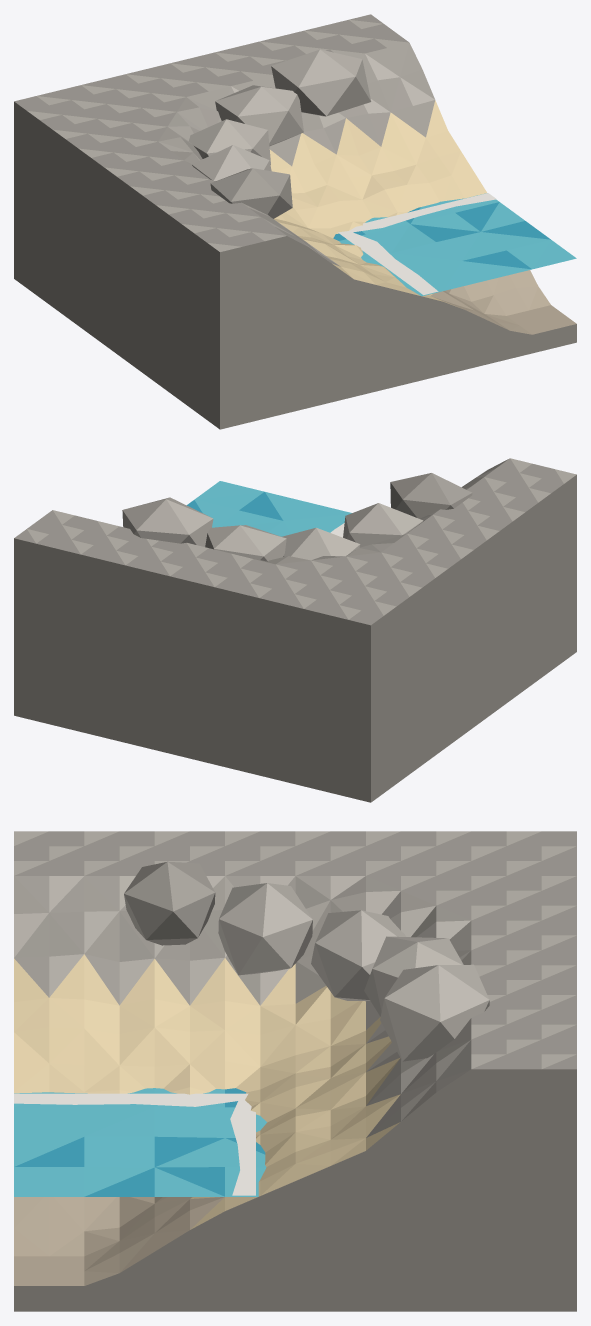
The model's file is shore_inner_corner.glb.
3 views of the same model, one above another, from view 1: azimuth 30°, elevation 25°; view 2: azimuth 150°, elevation 25°; view 3: azimuth 270°, elevation 25° (orthographic). The views are drawn at different scales.
Parts seen in each view (by area): view 1: shore_inner_corner, part_water, part_foam; view 2: shore_inner_corner, part_water; view 3: shore_inner_corner, part_water, part_foam.
Boxes of the visible parts, bbox=[...] form: shore_inner_corner: bbox=[14, 14, 576, 429]; part_water: bbox=[333, 193, 576, 296]; part_foam: bbox=[338, 193, 496, 295]; shore_inner_corner: bbox=[14, 458, 576, 802]; part_water: bbox=[186, 481, 351, 536]; shore_inner_corner: bbox=[14, 831, 576, 1311]; part_water: bbox=[14, 1088, 266, 1196]; part_foam: bbox=[14, 1093, 255, 1195].
Bounding box in the file's own units: 2 × 1.09 × 2.
